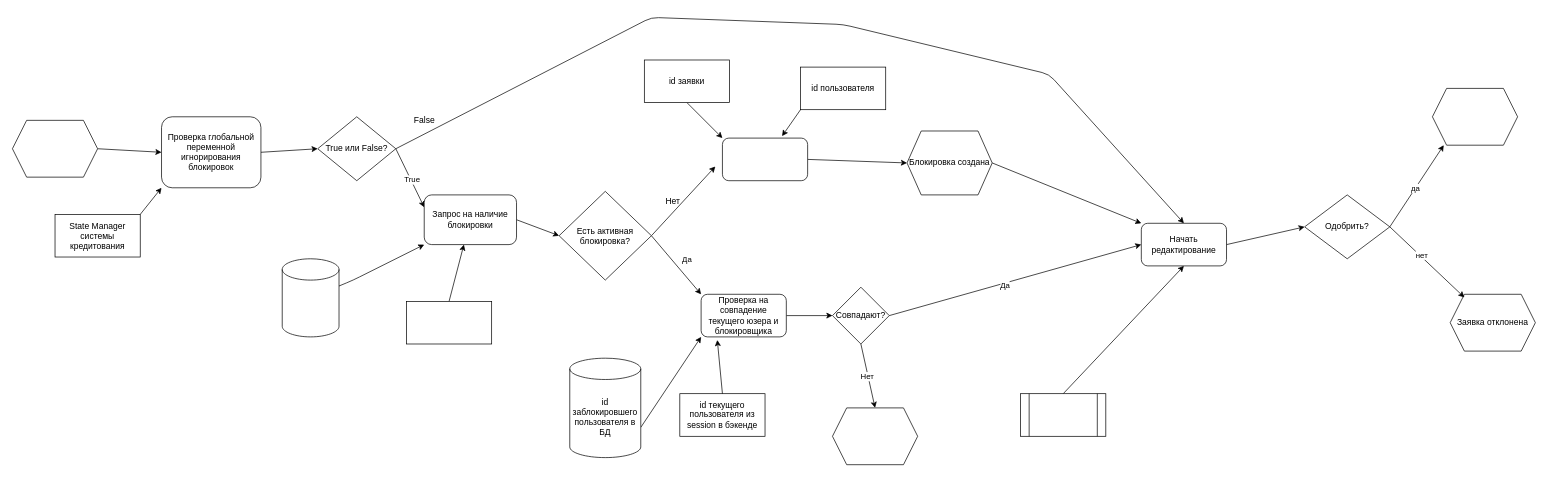
This 1548x477 diagram has some shape labels left out. The centre of each missing label's shape, as x and y in pixels:
"Id кредитной заявки" goes at (449,322).
"Возврат ошибки о невозможности редактирования" goes at (875,436).
"Запрос на создание блокировки" goes at (765,159).
"Заявка одобрена" goes at (1475,116).
"Нажатие на кнопку обработать заявку" goes at (55,148).
"Сотрудник банка" goes at (1063,414).
"Таблица блокировок в БД приложения" goes at (310,297).
